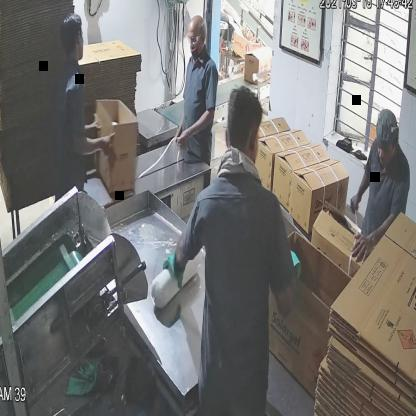glove: (159, 234, 190, 299)
no_glove: (350, 214, 408, 270), (177, 98, 219, 155), (76, 124, 122, 170), (350, 150, 380, 219), (79, 108, 104, 147)
